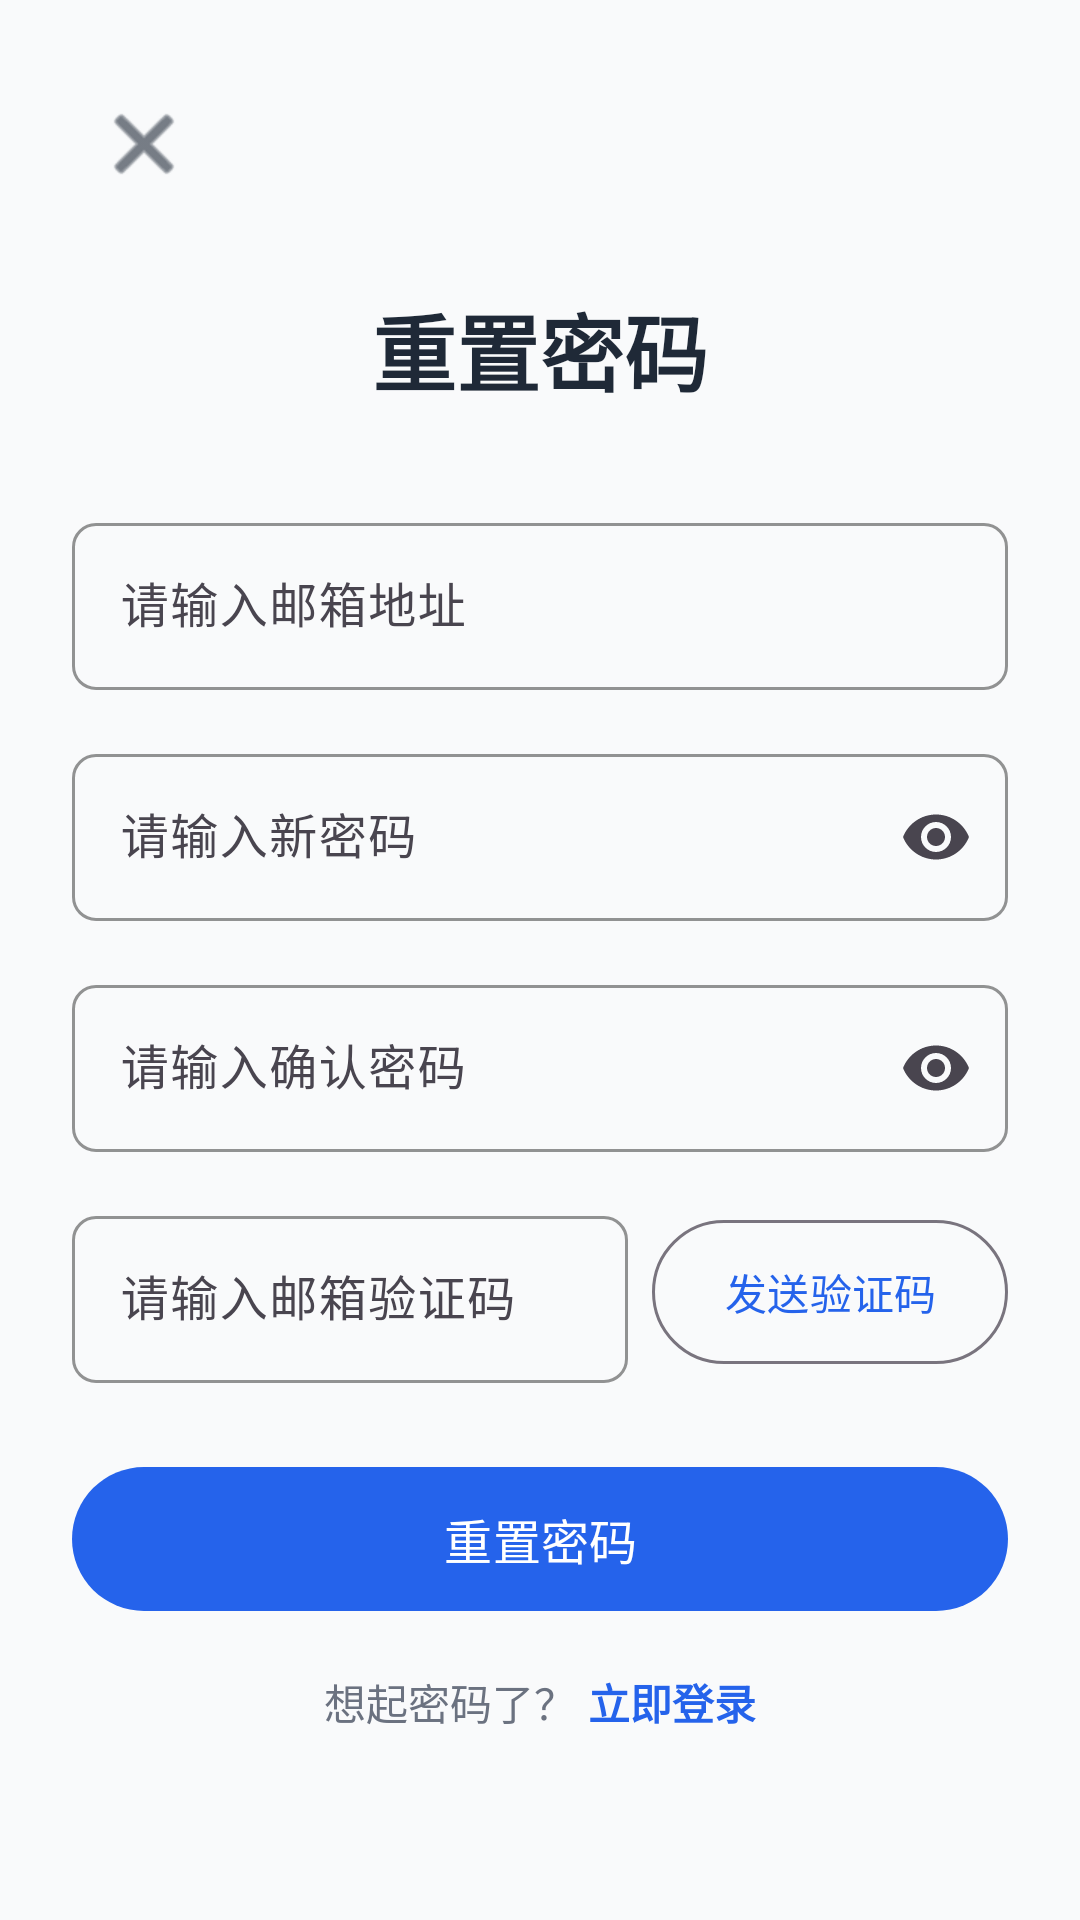

Icon bounding boxes for this 1080 x 1920 phone screenshot, format (x1, y1, x2, y2):
close clear cancel: (114, 114, 174, 174)
